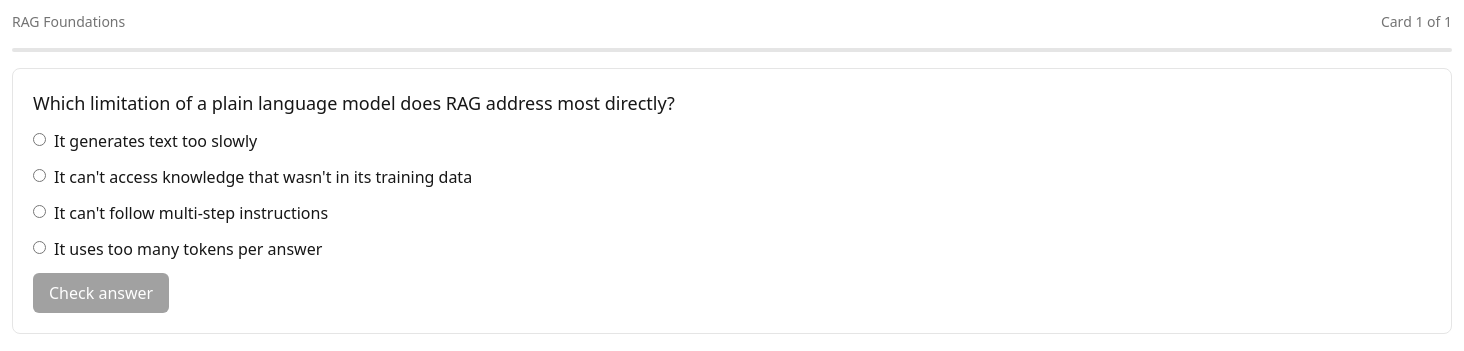
Test: review card: select an option and reveal the answer › keeps Check answer disabled until an option is selected
expect the button "Check answer" is disabled: met, box top-left (33, 273), bottom-right (169, 313)
Click the radio button labelled "It can't access knowledge that wasn't in its training data".
click(40, 176)  # box top-left (33, 169), bottom-right (46, 182)
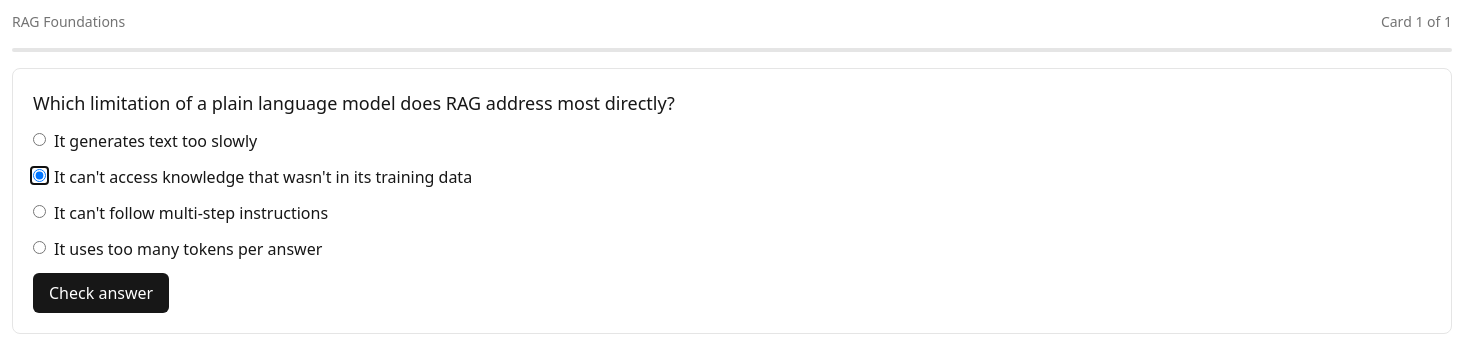
expect the radio button labelled "It can't access knowledge that wasn't in its training data" is checked: met, box top-left (33, 169), bottom-right (46, 182)
expect the button "Check answer" is enabled: met, box top-left (33, 273), bottom-right (169, 313)
